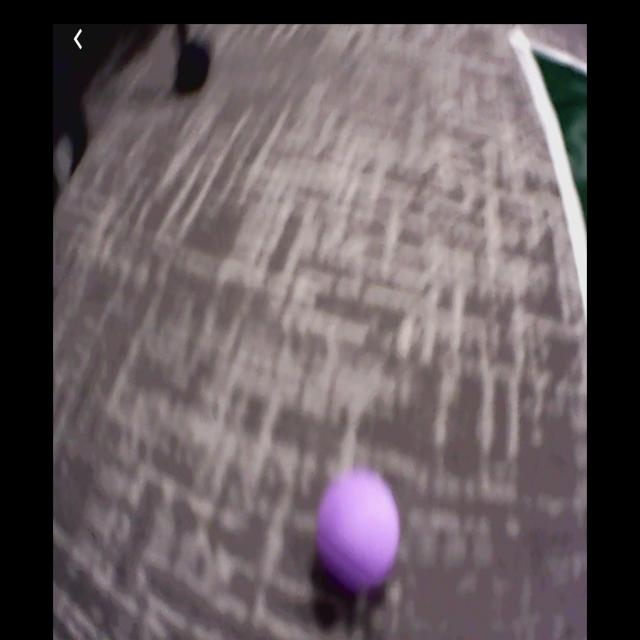ball: (316, 467, 402, 597)
